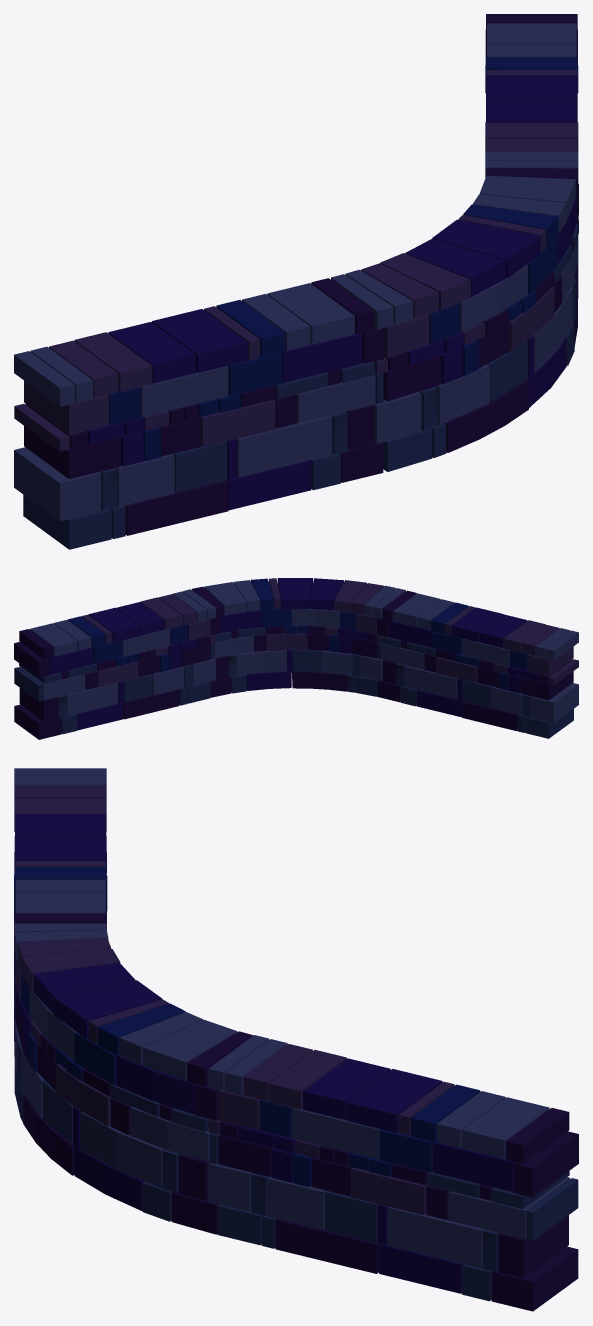
File: WallBlue4.fbx
The picture shows the model from 3 angles, top to bottom: view 1: azimuth 30°, elevation 25°; view 2: azimuth 150°, elevation 25°; view 3: azimuth 270°, elevation 25°; orthographic projection. The views are drawn at different scales.
Parts seen in each view (by area): view 1: WallBlue4; view 2: WallBlue4; view 3: WallBlue4.
Boxes of the visible parts, left/top/right/bottom form: WallBlue4: left=14, top=14, right=578, bottom=549; WallBlue4: left=14, top=578, right=578, bottom=739; WallBlue4: left=14, top=768, right=578, bottom=1311.
Bounding box in the file's own units: 49.16 × 9.9 × 30.92.
1 material, 1 textured.
